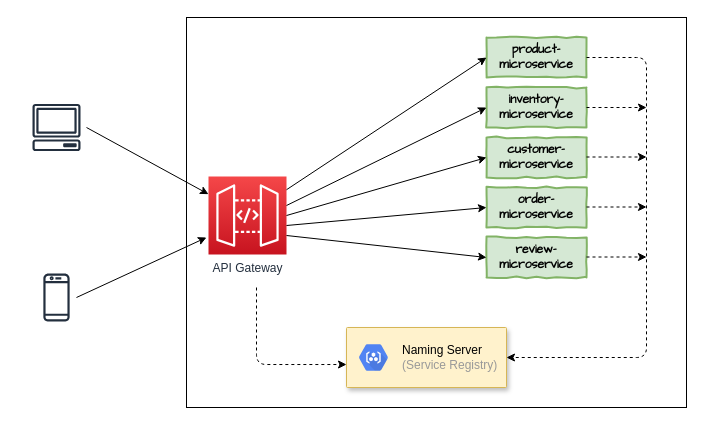
This 704x425 diagram has some shape labels left out. Each missing label, with the centre of its shape:
"Desktop Client" goes at (x=56, y=127).
"Mobile client" goes at (x=56, y=297).
